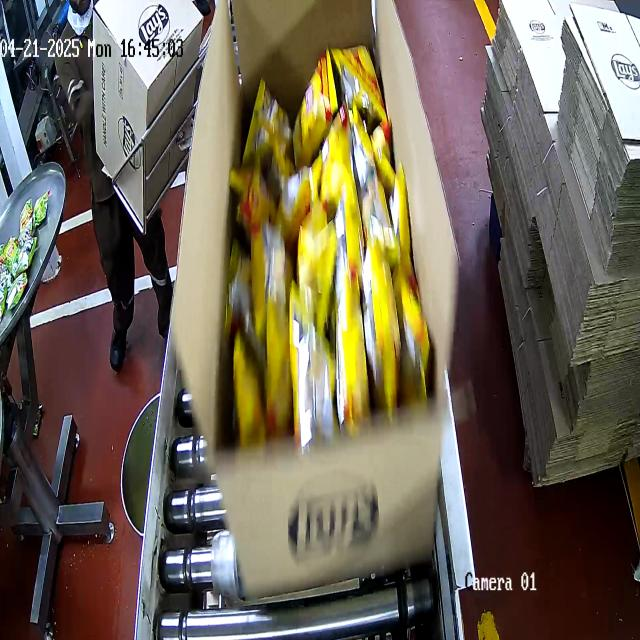SALTED: (211, 49, 415, 438)
